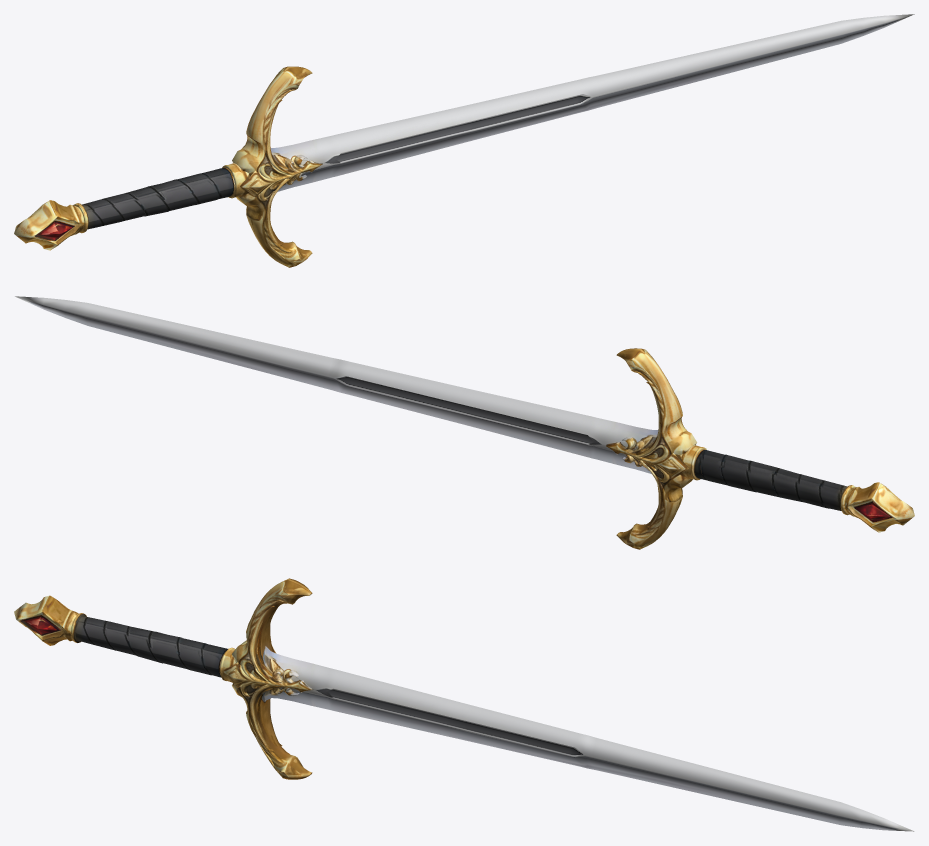
File: PlayerSword.fbx
The picture shows the model from 3 angles, top to bottom: view 1: azimuth 30°, elevation 25°; view 2: azimuth 150°, elevation 25°; view 3: azimuth 330°, elevation 25°; orthographic projection.
Parts seen in each view (by area): view 1: Sword_154cm_Uniform; view 2: Sword_154cm_Uniform; view 3: Sword_154cm_Uniform.
Part boxes in pixels (<box>): Sword_154cm_Uniform: <box>14,14,914,267</box>; Sword_154cm_Uniform: <box>15,296,914,549</box>; Sword_154cm_Uniform: <box>14,578,914,831</box>.
Bounding box in the file's own units: 1.54 × 0.3256 × 0.0774.
1 material, 1 textured.
